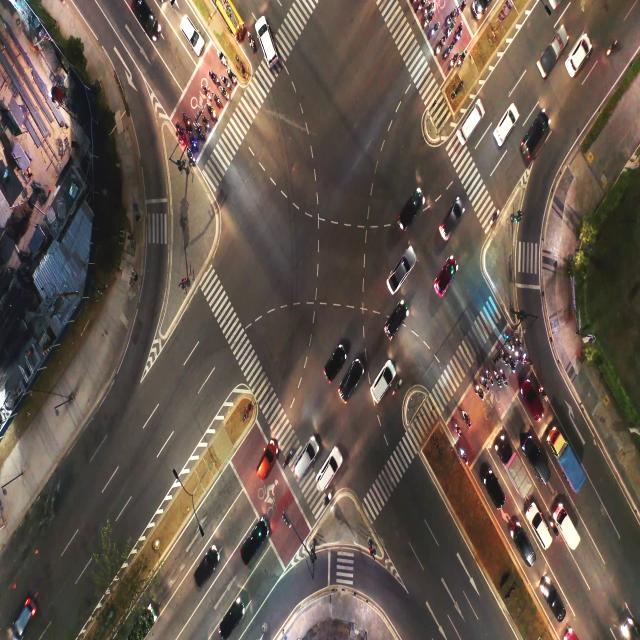bus: (222, 0, 235, 28)
car: (135, 603, 160, 640), (495, 104, 516, 148), (370, 364, 393, 400), (15, 595, 34, 637), (195, 554, 214, 592), (325, 344, 347, 376), (440, 200, 461, 233), (393, 252, 409, 291), (220, 607, 241, 636), (242, 532, 260, 565), (182, 14, 198, 50), (342, 372, 358, 408), (397, 197, 415, 229), (458, 115, 479, 140), (437, 266, 456, 293), (526, 125, 542, 156), (316, 465, 333, 493), (514, 530, 529, 560), (258, 453, 272, 484), (531, 516, 547, 543), (140, 10, 155, 38), (390, 312, 402, 341), (485, 476, 498, 500), (568, 48, 582, 70), (546, 590, 558, 614), (262, 32, 273, 58), (300, 450, 308, 478), (534, 454, 545, 474), (528, 395, 537, 419)
motorcycle: (282, 447, 292, 469), (490, 205, 501, 225), (607, 40, 617, 55), (393, 378, 402, 394), (430, 22, 439, 36), (324, 492, 332, 506), (457, 52, 466, 64), (450, 54, 457, 68), (248, 34, 254, 50), (218, 53, 226, 65), (443, 45, 451, 57), (460, 449, 467, 462), (454, 422, 460, 436), (463, 413, 469, 427), (436, 41, 442, 55), (446, 28, 454, 38), (456, 28, 461, 43), (214, 95, 221, 105), (484, 368, 491, 378), (508, 337, 514, 348), (184, 116, 189, 129), (539, 384, 544, 397), (190, 138, 196, 148), (212, 74, 218, 84), (458, 6, 464, 16), (501, 348, 505, 362), (178, 127, 183, 138), (522, 353, 527, 364), (188, 152, 194, 161), (222, 90, 228, 99), (474, 386, 480, 395), (221, 75, 226, 85), (417, 2, 422, 12), (196, 126, 202, 134), (481, 376, 485, 388), (203, 118, 208, 127), (208, 106, 213, 115), (494, 369, 498, 380), (228, 70, 233, 78), (204, 89, 208, 98), (448, 14, 452, 23), (424, 20, 428, 29), (425, 6, 429, 15), (510, 356, 513, 367), (500, 369, 504, 377), (516, 351, 520, 359), (516, 338, 518, 347)
truck: (559, 444, 581, 476), (540, 38, 560, 70), (560, 509, 576, 545), (510, 458, 521, 488)
